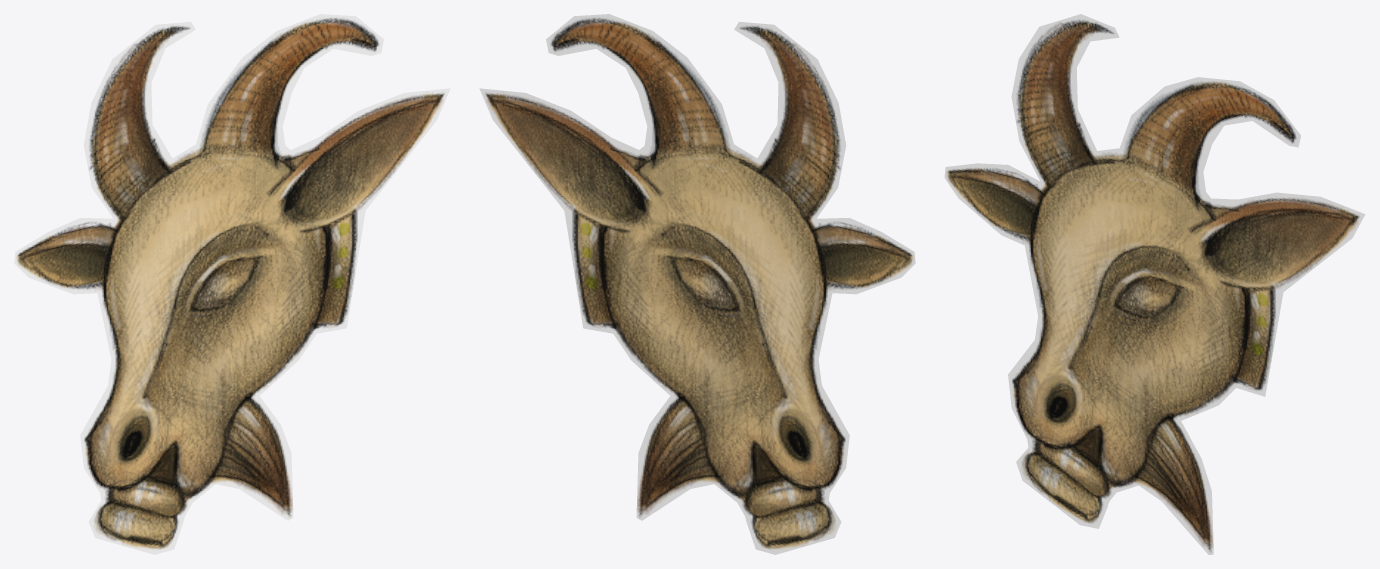
The picture shows the model from 3 angles, left to right: view 1: azimuth 30°, elevation 25°; view 2: azimuth 150°, elevation 25°; view 3: azimuth 330°, elevation 25°; orthographic projection. The views are drawn at different scales.
Parts seen in each view (by area): view 1: Plane; view 2: Plane; view 3: Plane.
Boxes of the visible parts, x1=… form: Plane: x1=14, y1=14, x2=450, y2=554; Plane: x1=479, y1=14, x2=915, y2=554; Plane: x1=944, y1=14, x2=1365, y2=554.
Size of the model in its own units: 5.91 by 6.86 by 0.
1 material, 1 textured.
